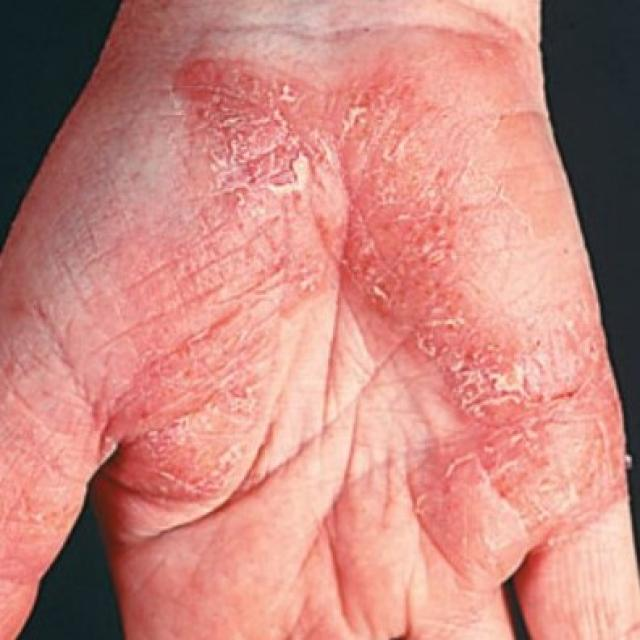Psoriasis Vulgar: (0, 0, 638, 638)
